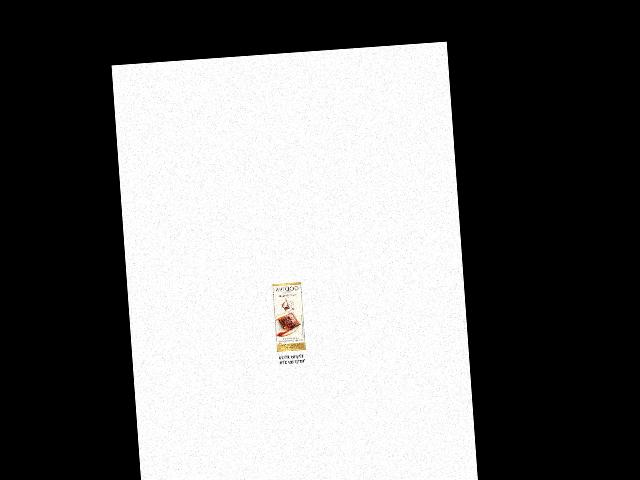chocolate: (269, 280, 305, 354)
